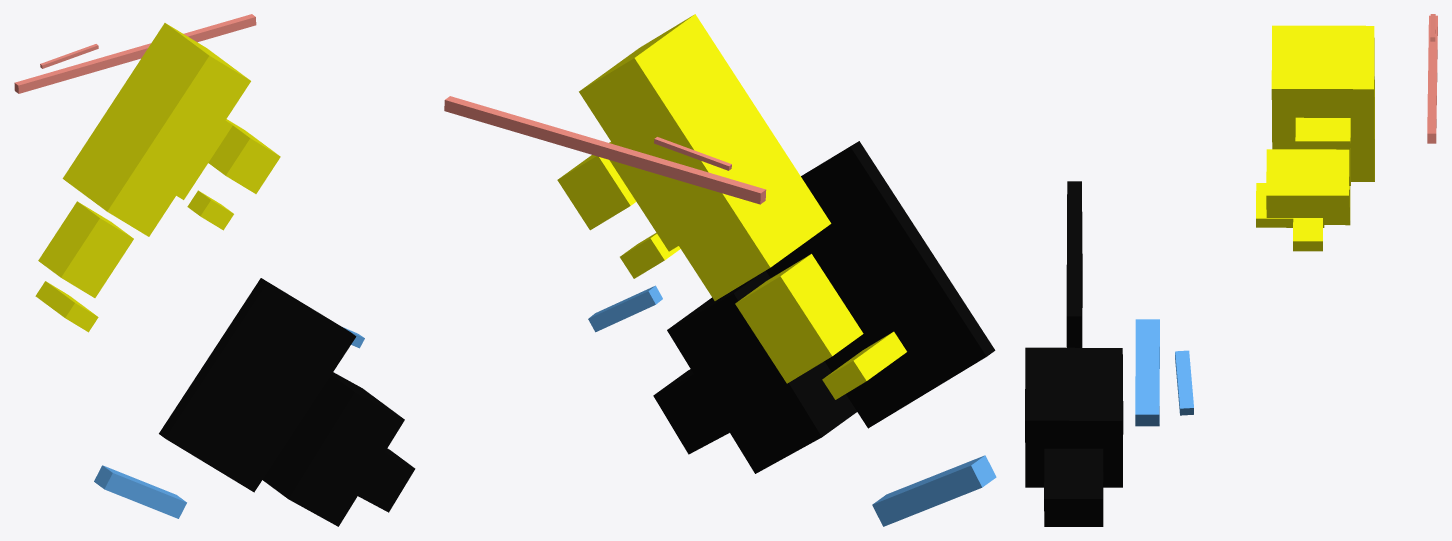
The model's file is malevitch_v9.gltf.
3 views of the same model, side by side, from view 1: azimuth 30°, elevation 25°; view 2: azimuth 150°, elevation 25°; view 3: azimuth 270°, elevation 25° (orthographic). The views are drawn at different scales.
Visible parts, largest first — view 1: Noir, jaune_big, Noir.1, jaune_big.3, jaune_big.2, Rouge_dessous, Bleu, Noir.2, jaune_big.4, jaune_big.5, jaune_big.1; view 2: jaune_big, Noir, Noir.1, jaune_big.3, Rouge_dessous, Bleu, Noir.2, jaune_big.2, jaune_big.4, Bleu.1, jaune_big.5, jaune_big.1 (+1 smaller); view 3: jaune_big, Noir.1, jaune_big.2, Noir.2, Noir, Bleu, jaune_big.1, Rouge_dessous, jaune_big.5, Bleu.1, jaune_big.4.
Boxes of the visible parts, bbox=[...] form: Noir: bbox=[159, 278, 356, 492]; jaune_big: bbox=[62, 23, 250, 236]; Noir.1: bbox=[262, 372, 404, 526]; jaune_big.3: bbox=[38, 201, 133, 297]; jaune_big.2: bbox=[208, 119, 280, 193]; Rouge_dessous: bbox=[14, 14, 256, 93]; Bleu: bbox=[94, 465, 186, 518]; Noir.2: bbox=[358, 448, 415, 512]; jaune_big.4: bbox=[35, 281, 98, 332]; jaune_big.5: bbox=[187, 190, 233, 230]; jaune_big.1: bbox=[176, 120, 232, 199]; jaune_big: bbox=[579, 14, 831, 300]; Noir: bbox=[766, 141, 995, 428]; Noir.1: bbox=[667, 271, 856, 473]; jaune_big.3: bbox=[735, 254, 863, 383]; Rouge_dessous: bbox=[444, 96, 766, 204]; Bleu: bbox=[872, 455, 996, 526]; Noir.2: bbox=[653, 369, 729, 454]; jaune_big.2: bbox=[557, 142, 636, 230]; jaune_big.4: bbox=[822, 331, 906, 399]; Bleu.1: bbox=[588, 285, 662, 332]; jaune_big.5: bbox=[620, 232, 680, 278]; jaune_big.1: bbox=[609, 160, 678, 251]; jaune_big: bbox=[1271, 25, 1374, 181]; Noir.1: bbox=[1025, 347, 1123, 487]; jaune_big.2: bbox=[1266, 149, 1349, 217]; Noir.2: bbox=[1044, 448, 1103, 526]; Noir: bbox=[1066, 181, 1082, 347]; Bleu: bbox=[1135, 319, 1159, 426]; jaune_big.1: bbox=[1295, 117, 1350, 185]; Rouge_dessous: bbox=[1427, 15, 1437, 143]; jaune_big.5: bbox=[1293, 218, 1322, 251]; Bleu.1: bbox=[1175, 350, 1193, 415]; jaune_big.4: bbox=[1256, 183, 1324, 227].
Size of the model in its own units: 1733 by 2380 by 1947.
